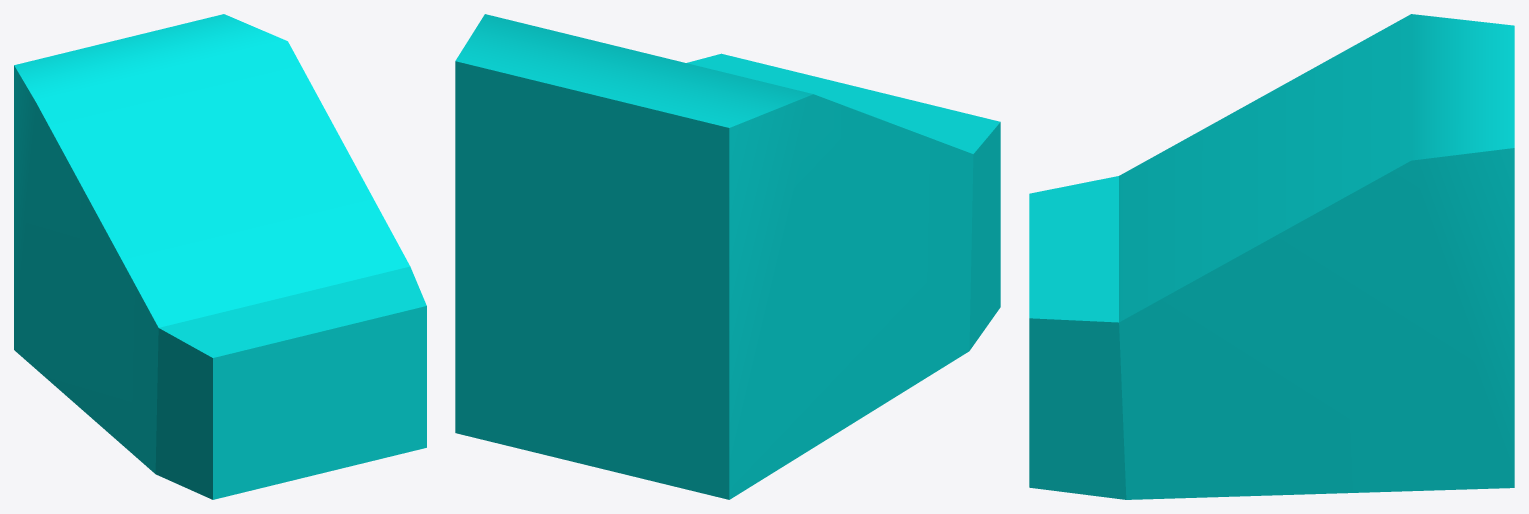
File: SM_Prop_Ruins_Stairs_02_Collision.fbx
The picture shows the model from 3 angles, left to right: view 1: azimuth 30°, elevation 25°; view 2: azimuth 150°, elevation 25°; view 3: azimuth 270°, elevation 25°; orthographic projection. The views are drawn at different scales.
Parts seen in each view (by area): view 1: SM_Prop_Ruins_Stairs_02_Collision; view 2: SM_Prop_Ruins_Stairs_02_Collision; view 3: SM_Prop_Ruins_Stairs_02_Collision.
Part boxes in pixels (left/top/right/bottom): SM_Prop_Ruins_Stairs_02_Collision: left=14, top=14, right=426, bottom=499; SM_Prop_Ruins_Stairs_02_Collision: left=455, top=14, right=1000, bottom=499; SM_Prop_Ruins_Stairs_02_Collision: left=1029, top=14, right=1514, bottom=499.
Bounding box in the file's own units: 260 × 282 × 364.
